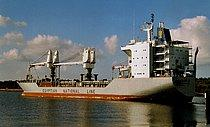Ship: (13, 16, 200, 105)
